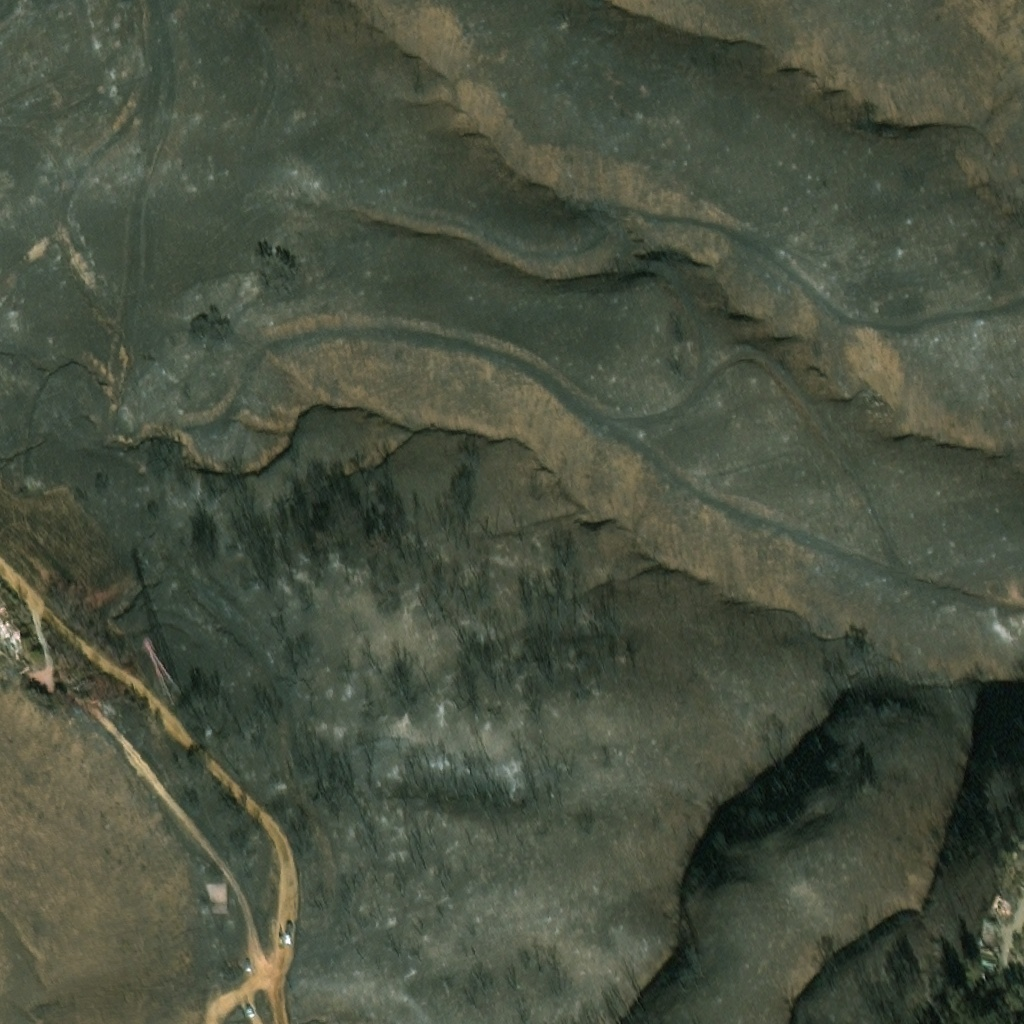1 minor-damage: (206, 883, 229, 914)
2 major-damage: (0, 615, 27, 653)
3 destroyed: (991, 895, 1012, 917), (978, 936, 996, 955), (978, 957, 996, 972), (982, 924, 996, 931), (982, 918, 996, 925), (980, 932, 992, 937)
